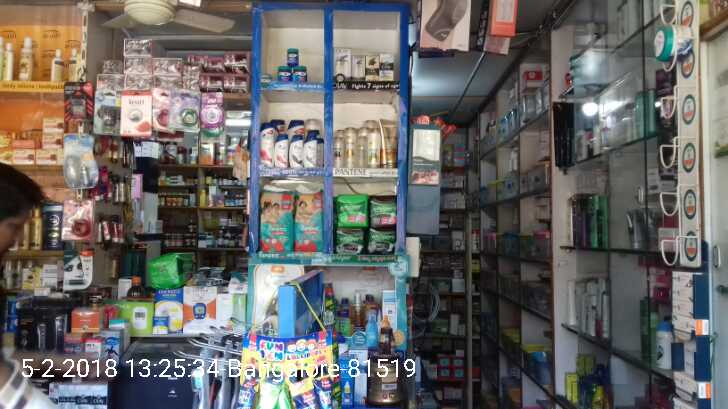beauty: (259, 123, 274, 173), (333, 47, 353, 80), (301, 132, 318, 170), (288, 134, 305, 171), (274, 133, 290, 170), (365, 132, 380, 168), (330, 135, 345, 171), (377, 49, 393, 82), (365, 55, 380, 83), (352, 56, 365, 85)
pharmacy: (257, 186, 293, 252), (293, 192, 325, 251), (333, 194, 368, 228), (365, 192, 398, 228), (335, 230, 368, 255), (365, 227, 396, 253), (285, 44, 299, 68), (278, 64, 293, 86), (292, 66, 309, 84)
